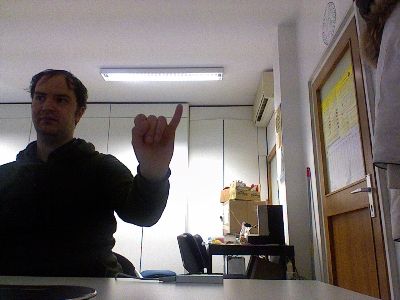小指: (130, 103, 183, 169)
